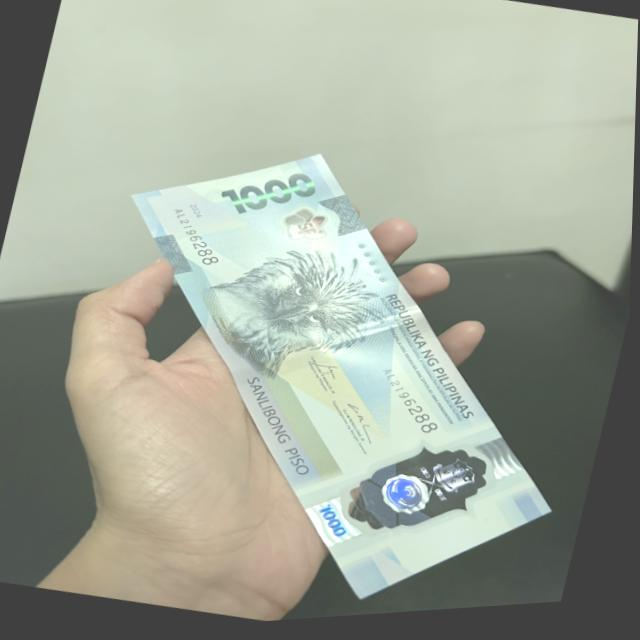clear_window: (335, 431, 509, 557)
eagle: (206, 234, 402, 386)
sampaguita: (274, 203, 337, 254)
